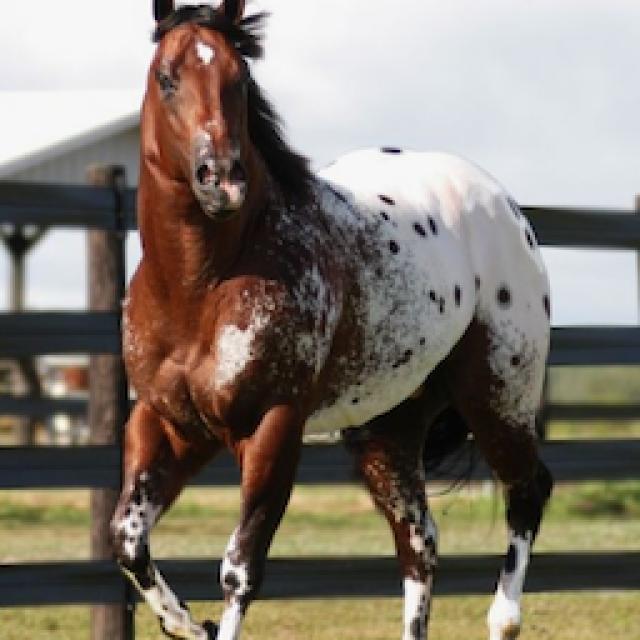Horse: (87, 0, 565, 638)
